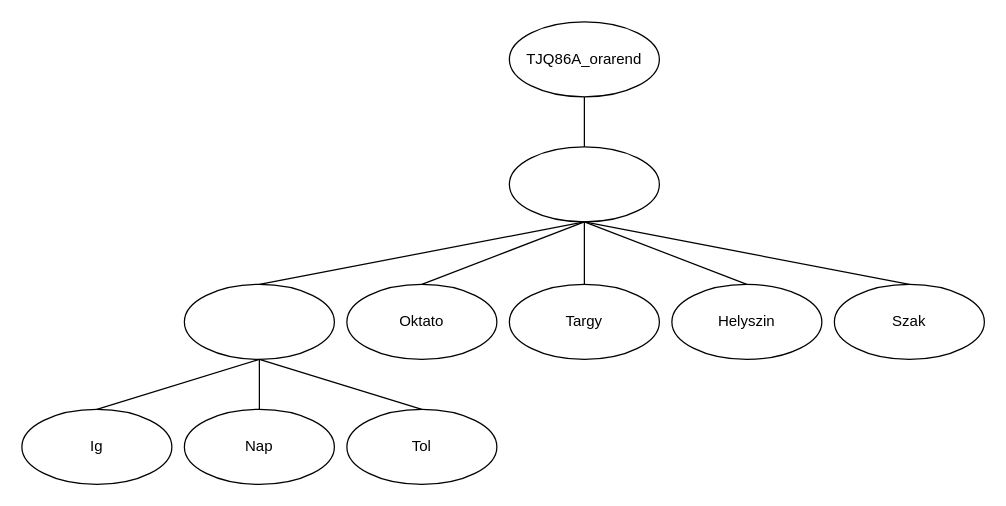
Image size: 1006x506. Some labels were removed from this diagram. Each missing label, with the box of its shape:
Idopont: (183, 283, 334, 359)
Ora: (508, 146, 659, 222)
